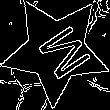M_SW: (23, 17, 88, 83)
